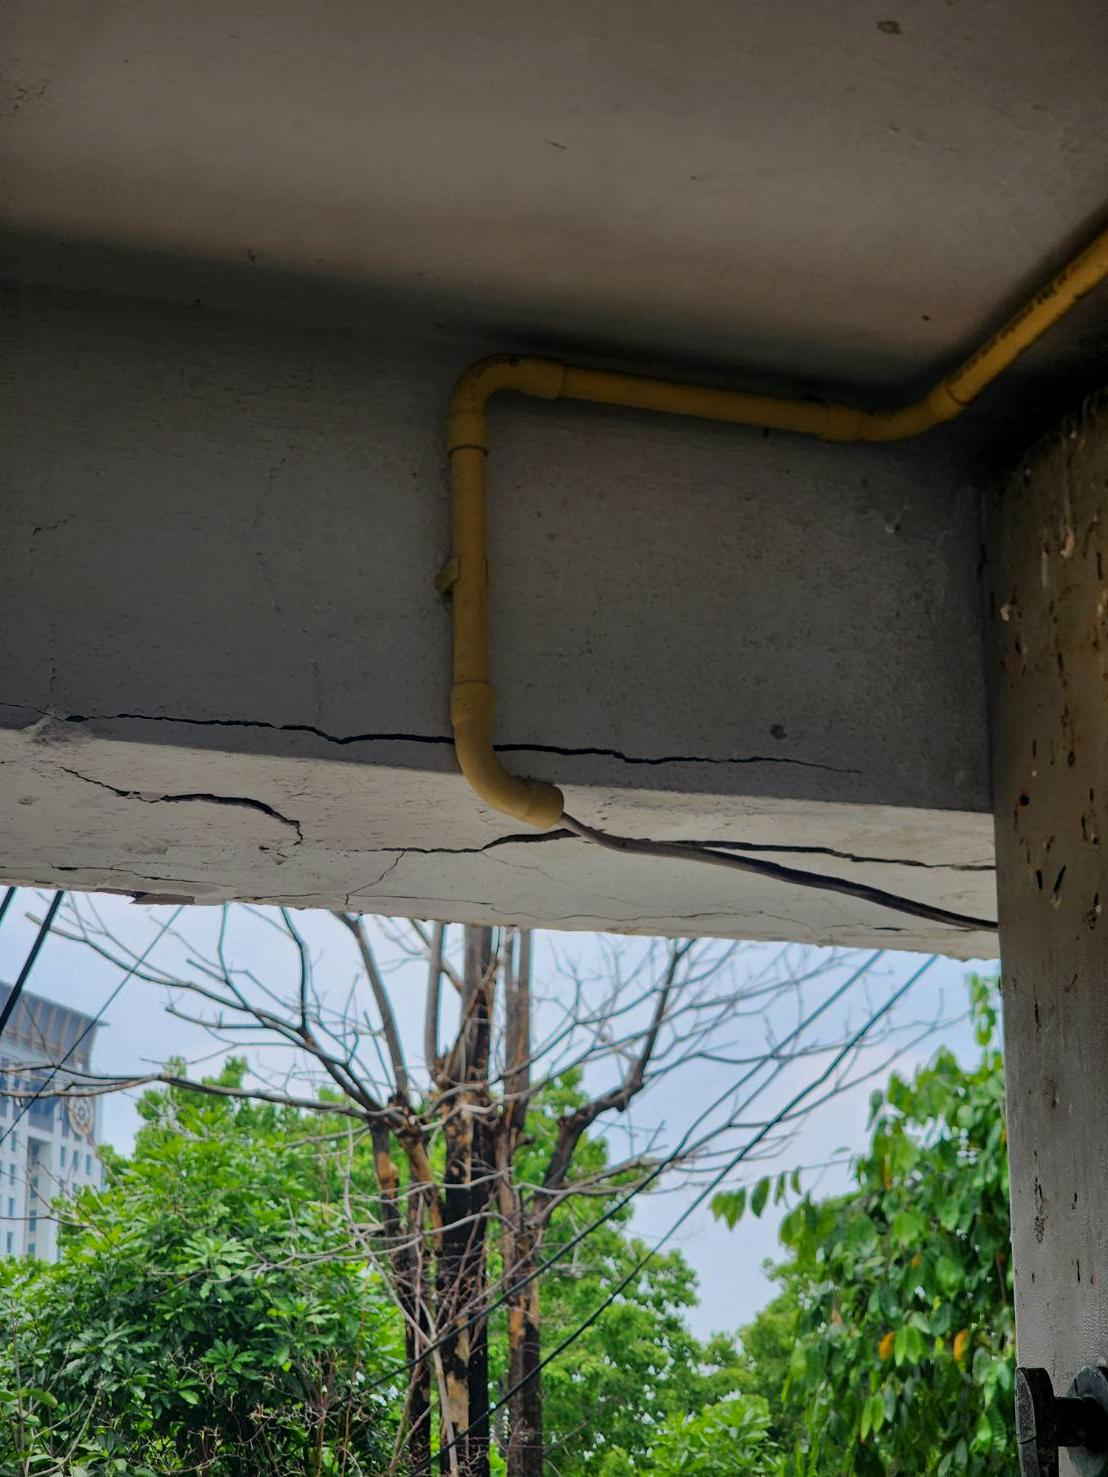High: (1, 693, 997, 943)
